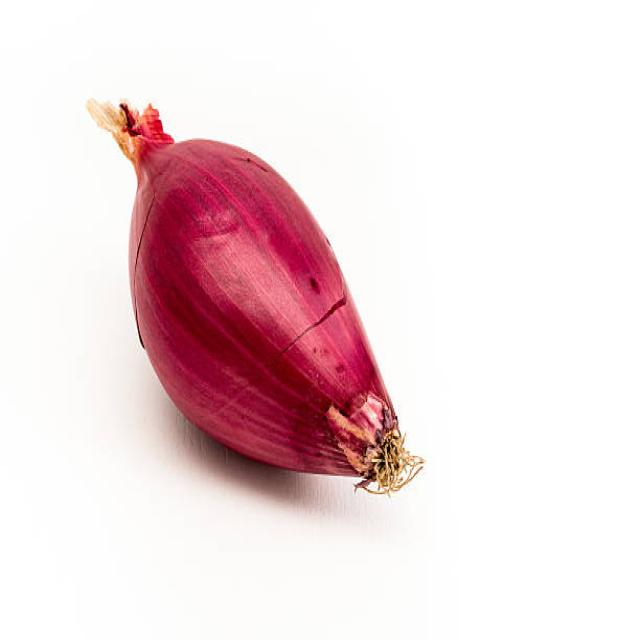onion: (79, 91, 424, 496)
